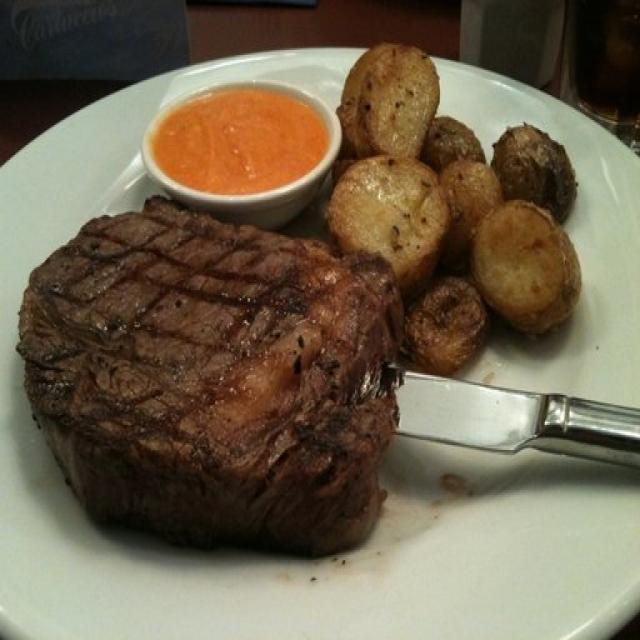Steak: (58, 233, 410, 565)
